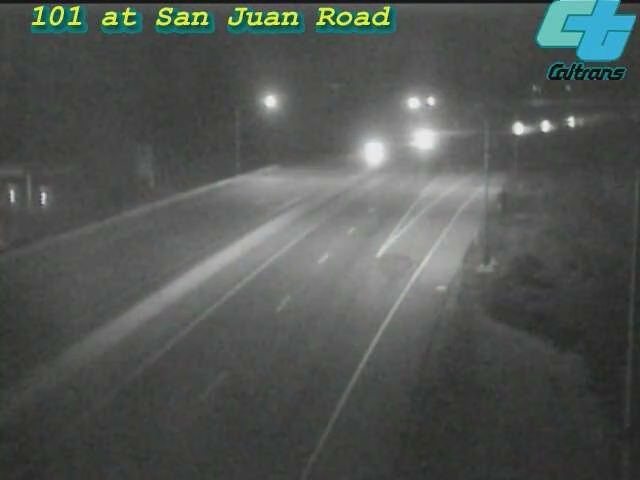vehicle: (348, 125, 398, 175), (403, 113, 453, 163), (547, 98, 597, 148), (521, 102, 571, 152), (490, 103, 540, 153)
